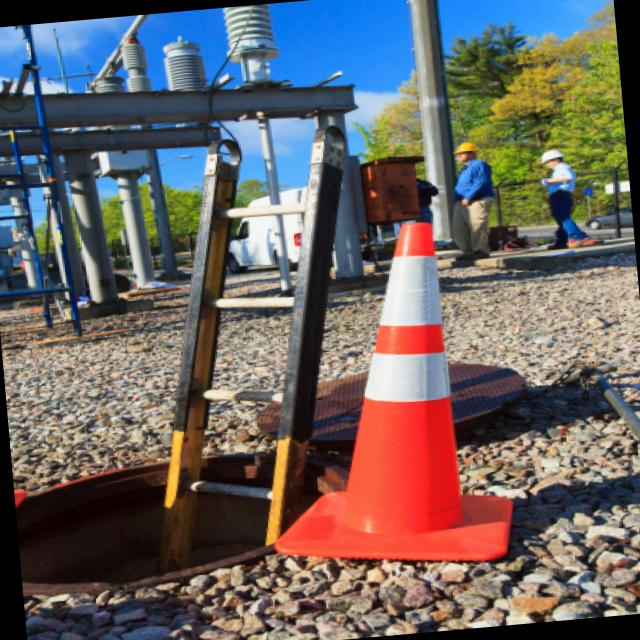cone: (264, 200, 539, 574)
